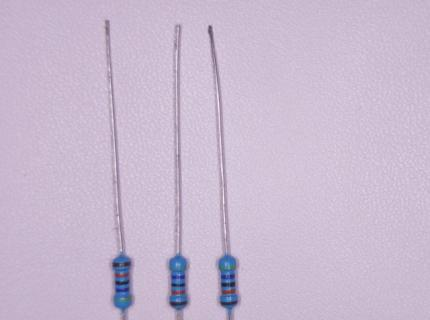Black band: (115, 280, 130, 285), (221, 282, 235, 287), (171, 283, 186, 287)
Brown band: (112, 261, 131, 267), (169, 300, 187, 306), (220, 300, 237, 305)
Orange band: (172, 289, 186, 295), (115, 272, 130, 277), (222, 289, 236, 294)
Violet band: (115, 287, 129, 292), (171, 275, 185, 279), (221, 275, 235, 279)
Yellow band: (114, 297, 131, 301), (219, 265, 236, 269), (169, 266, 187, 269)
